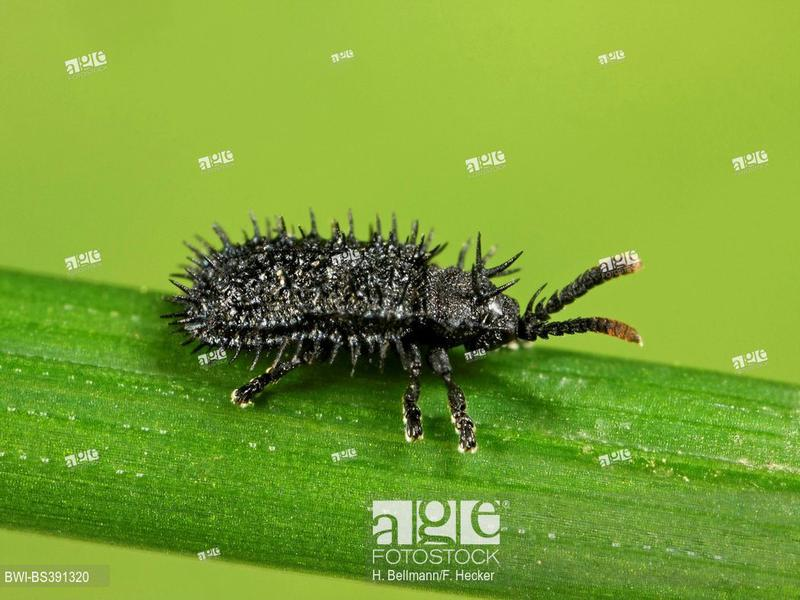Spiny_beetle: (127, 200, 638, 448)
